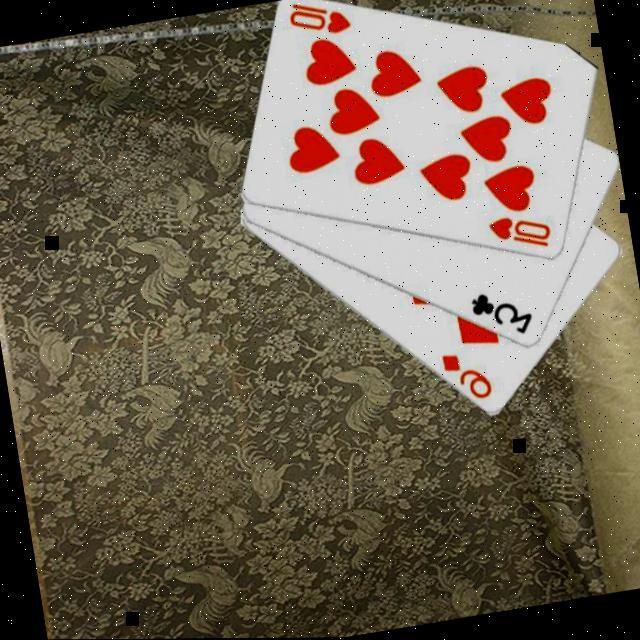10H: (482, 207, 555, 259), (281, 0, 353, 43)
3C: (464, 283, 536, 346)
9D: (436, 345, 495, 408)
